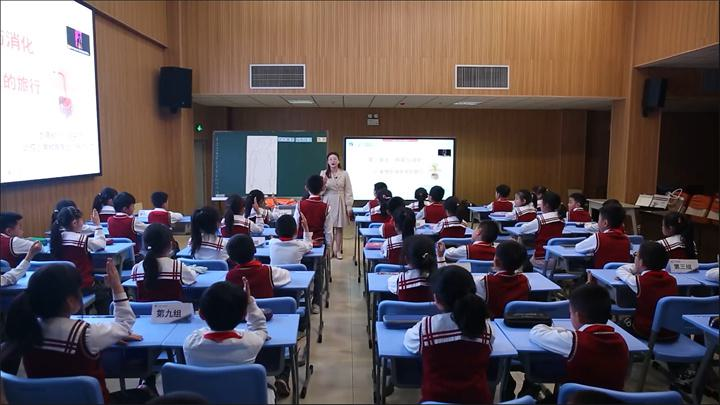hands-up: (32, 255, 131, 366), (197, 280, 275, 382), (554, 266, 612, 358), (484, 235, 530, 296), (397, 237, 452, 287), (218, 195, 267, 241), (271, 211, 316, 260), (57, 208, 102, 254)
listen: (421, 264, 486, 364), (222, 235, 284, 290), (134, 230, 177, 296), (191, 202, 221, 267), (456, 220, 500, 261), (388, 206, 422, 259), (429, 196, 472, 235), (531, 191, 563, 241), (113, 190, 138, 245), (565, 186, 593, 232), (92, 183, 117, 224), (151, 186, 176, 226), (486, 179, 513, 214), (508, 187, 532, 223)
stand: (295, 172, 331, 260)
